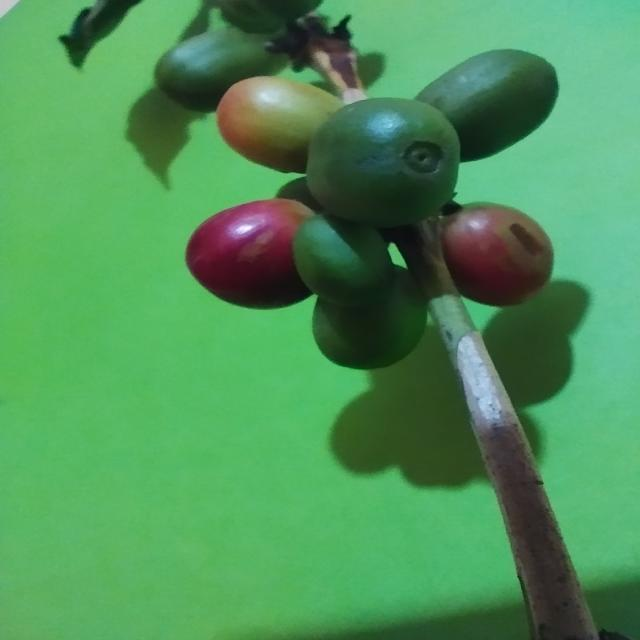Sano: (305, 99, 461, 229), (416, 49, 561, 165), (186, 200, 317, 310), (215, 76, 346, 176), (440, 206, 554, 309), (283, 216, 396, 313), (314, 286, 428, 370)
